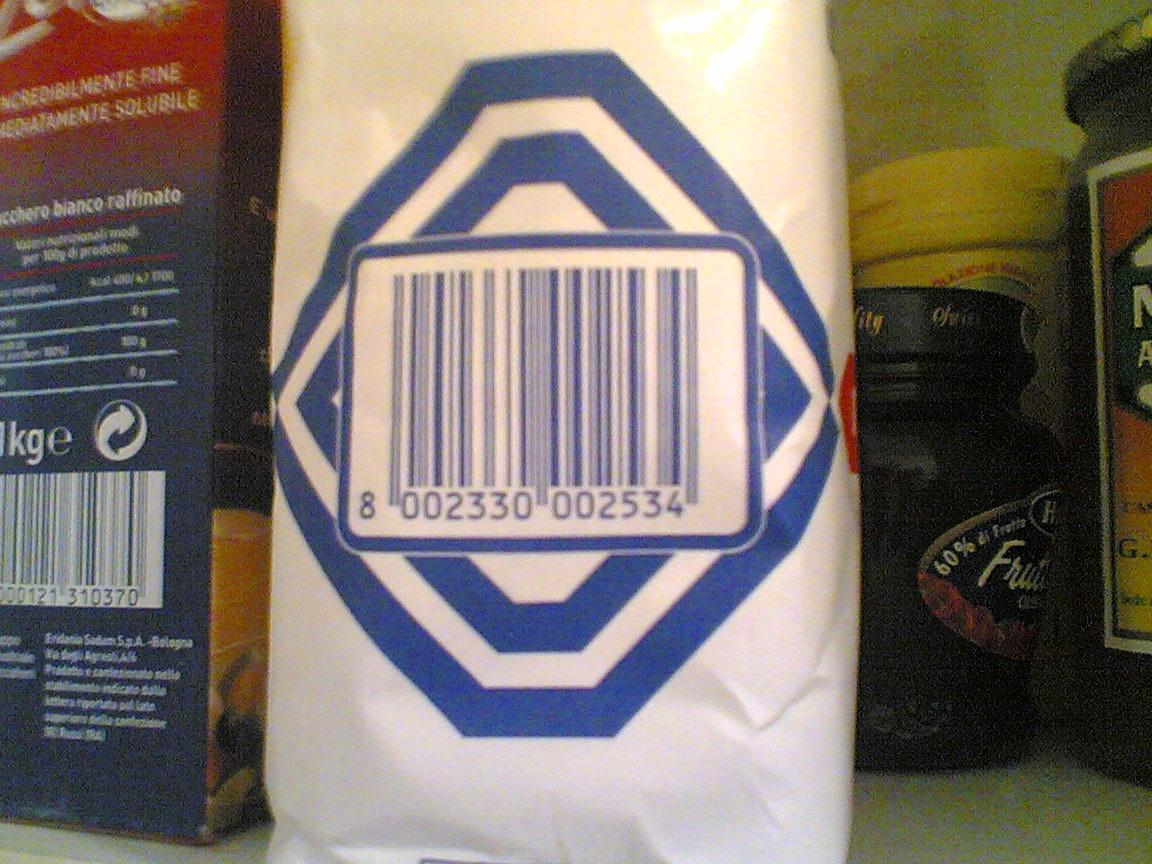Barcode: (353, 260, 722, 533)
